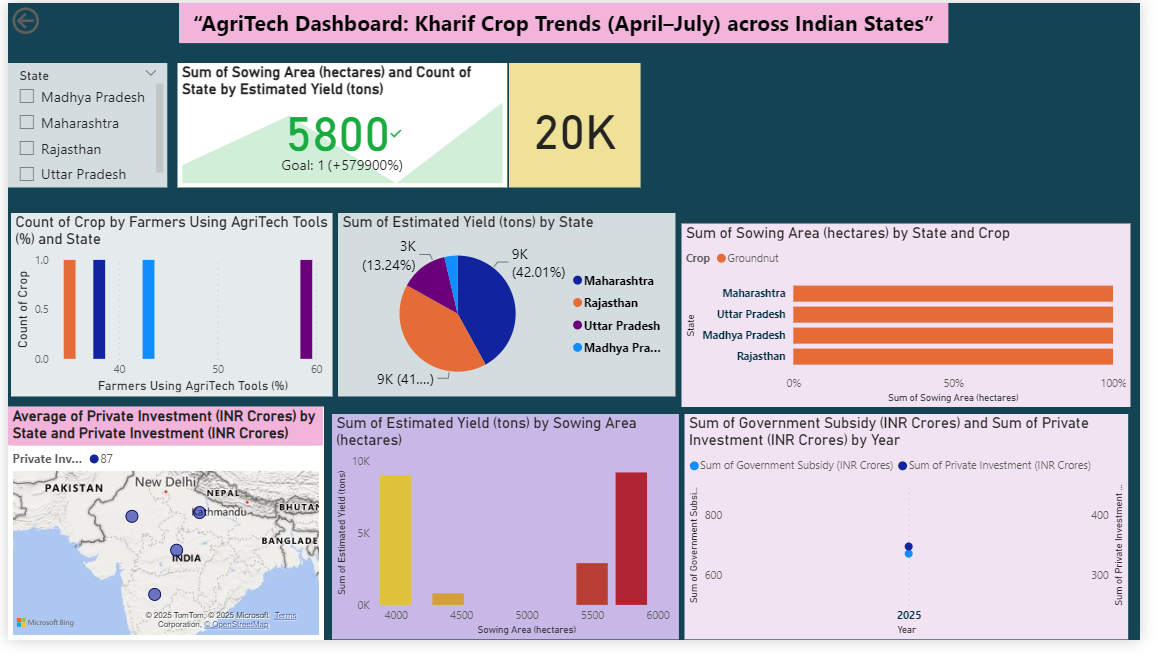

This screenshot's page, from the dashboard's own definition file:
{"tool":"powerbi","page":{"name":"Page 1","canvas":[1280,720],"ordinal":0},"visuals":[{"type":"textbox","box":[193.8,0,869.2,45.4],"z":0},{"type":"hundredPercentStackedBarChart","fields":{"Category":["Sheet1.State"],"Series":["Sheet1.Crop"],"Y":["Sum(Sheet1.Sowing Area (hectares))"]},"box":[758.6,237.7,507.3,207.4],"z":1000},{"type":"map","fields":{"Category":["Sheet1.State"],"Size":["Avg(Sheet1.Private Investment (INR Crores))"],"Series":["Sheet1.Private Investment (INR Crores)"]},"box":[0,455.8,355.8,263.5],"z":2000},{"type":"lineChart","fields":{"Category":["Sheet1.Year"],"Y":["Sum(Sheet1.Government Subsidy (INR Crores))"],"Y2":["Sum(Sheet1.Private Investment (INR Crores))"]},"box":[764.7,464.9,501.2,254.4],"z":3000},{"type":"kpi","fields":{"Indicator":["Sum(Sheet1.Sowing Area (hectares))"],"TrendLine":["Sheet1.Estimated Yield (tons)"],"Goal":["CountNonNull(Sheet1.State)"]},"box":[180.2,68.1,372.5,140.8],"z":4000},{"type":"pieChart","fields":{"Category":["Sheet1.State"],"Y":["Sum(Sheet1.Estimated Yield (tons))"]},"box":[372.5,237.7,381.6,207.4],"z":5000},{"type":"slicer","fields":{"Values":["Sheet1.State"]},"box":[0,68.1,180.2,140.8],"z":6000},{"type":"actionButton","box":[0,0,100,40],"z":7000},{"type":"ribbonChart","fields":{"Category":["Sheet1.Farmers Using AgriTech Tools (%)"],"Y":["CountNonNull(Sheet1.Crop)"],"Series":["Sheet1.State"]},"box":[3,237.7,363.4,207.4],"z":8000},{"type":"lineStackedColumnComboChart","fields":{"Category":["Sheet1.Sowing Area (hectares)"],"Y":["Sum(Sheet1.Estimated Yield (tons))"]},"box":[366.4,464.9,392.2,254.4],"z":9000},{"type":"card","fields":{"Values":["Sum(Sheet1.Sowing Area (hectares))"]},"box":[566.3,68.1,148.4,140.8],"z":9001}]}

Visuals, with their boxes in screenshot pixels (x1, y1, x2, y2):
textbox: detection(176, 0, 952, 41)
hundredPercentStackedBarChart - Sheet1.State x Sheet1.Crop: detection(680, 212, 1133, 397)
map - Sheet1.State x Avg(Sheet1.Private Investment (INR Crores)): detection(3, 407, 321, 642)
lineChart - Sheet1.Year x Sum(Sheet1.Government Subsidy (INR Crores)): detection(686, 415, 1133, 642)
kpi - Sum(Sheet1.Sowing Area (hectares)) x Sheet1.Estimated Yield (tons): detection(164, 61, 497, 187)
pieChart - Sheet1.State x Sum(Sheet1.Estimated Yield (tons)): detection(336, 212, 676, 397)
slicer - Sheet1.State: detection(3, 61, 164, 187)
actionButton: detection(3, 0, 92, 36)
ribbonChart - Sheet1.Farmers Using AgriTech Tools (%) x CountNonNull(Sheet1.Crop): detection(6, 212, 330, 397)
lineStackedColumnComboChart - Sheet1.Sowing Area (hectares) x Sum(Sheet1.Estimated Yield (tons)): detection(330, 415, 680, 642)
card - Sum(Sheet1.Sowing Area (hectares)): detection(509, 61, 641, 187)
